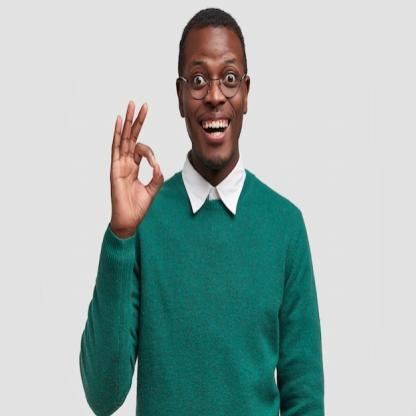ok: (108, 97, 167, 239)
